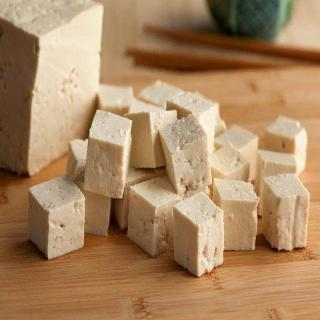Tahu: (27, 74, 320, 310)
